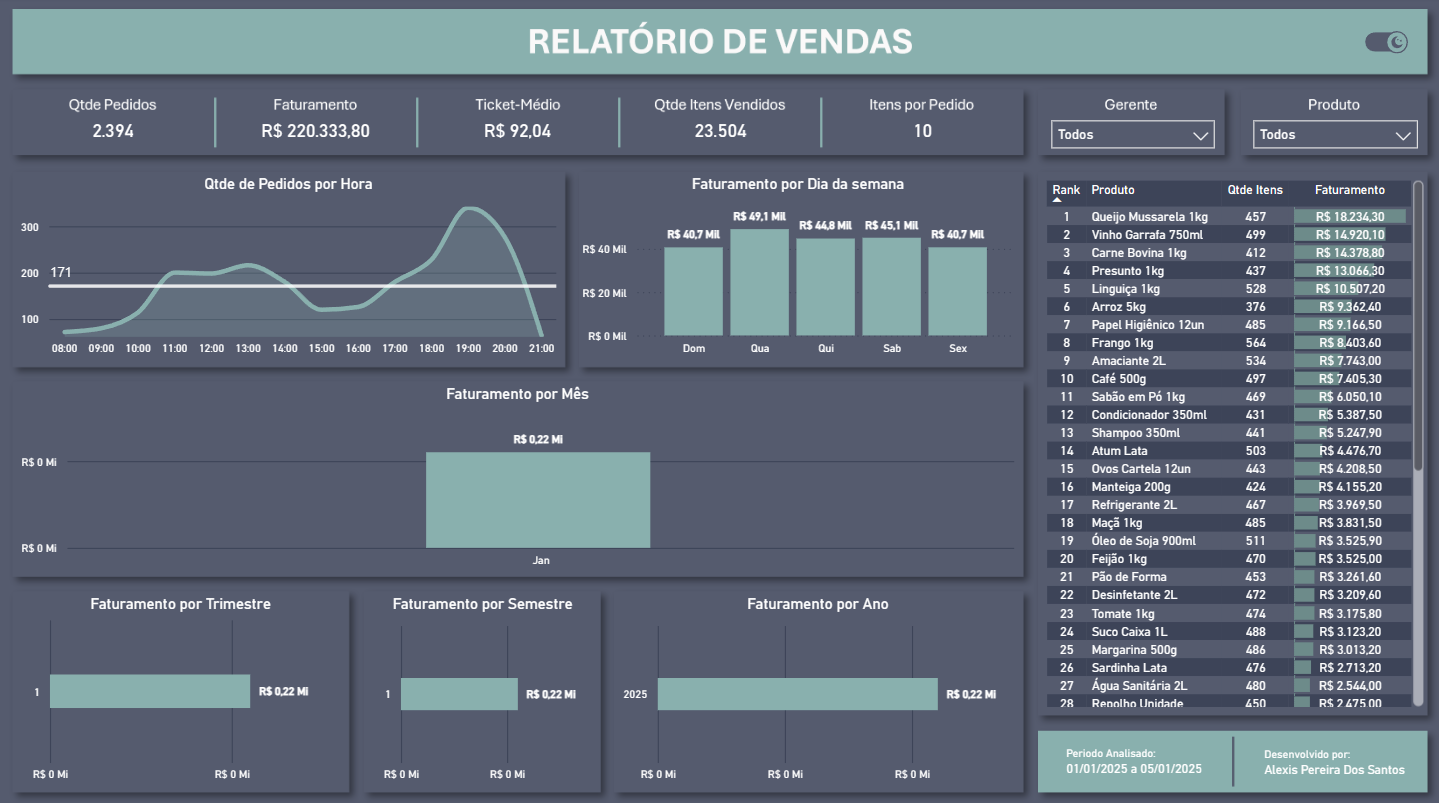

This screenshot's page, from the dashboard's own definition file:
{"tool":"powerbi","page":{"name":"RELATORIO_BI_Dark","canvas":[1280,720],"ordinal":1},"visuals":[{"type":"columnChart","title":"Faturamento por Dia da semana","fields":{"Category":["gold dim_calendario.dia_nome"],"Y":["gold fato_vendas.Faturamento"]},"box":[511.8,158.2,393.6,167.3],"z":0},{"type":"cardVisual","fields":{"Data":["gold fato_vendas.Faturamento"]},"box":[193.8,95,173,44],"z":1000},{"type":"cardVisual","fields":{"Data":["gold fato_vendas.QTD_PEDIDOS"]},"box":[14.7,95,172.7,44],"z":2000},{"type":"cardVisual","fields":{"Data":["gold fato_vendas.QTD_ITENS"]},"box":[553.2,95,173,44],"z":3000},{"type":"cardVisual","fields":{"Data":["gold fato_vendas.ITENS_P_PEDIDO"]},"box":[732.7,95,173.3,44],"z":4000},{"type":"cardVisual","fields":{"Data":["gold fato_vendas.TICKET_MÉDIO"]},"box":[373.3,95,173.3,44],"z":5000},{"type":"columnChart","title":"Faturamento por Mês","fields":{"Category":["gold dim_calendario.mes_abreviado"],"Y":["gold fato_vendas.Faturamento"]},"box":[14.4,343.8,891.2,169.4],"z":6000},{"type":"clusteredBarChart","title":"Faturamento por Ano","fields":{"Category":["gold dim_calendario.ano"],"Y":["gold fato_vendas.Faturamento"]},"box":[547.5,530.6,358.1,172.5],"z":7000},{"type":"clusteredBarChart","title":"Faturamento por Semestre","fields":{"Category":["gold dim_calendario.semestre"],"Y":["gold fato_vendas.Faturamento"]},"box":[325,530.6,206.9,172.5],"z":8000},{"type":"slicer","fields":{"Values":["gold dim_lojas.gerente"]},"box":[922.9,99.2,165.3,39.5],"z":9000},{"type":"slicer","fields":{"Values":["gold dim_produtos.produto"]},"box":[1101.8,99.2,165.8,39.5],"z":10000},{"type":"clusteredBarChart","title":"Faturamento por Trimestre","fields":{"Category":["gold dim_calendario.trimestre"],"Y":["gold fato_vendas.Faturamento"]},"box":[14.4,530.6,293.8,172.5],"z":11000},{"type":"image","box":[1210,30,40,20],"z":12000},{"type":"tableEx","fields":{"Values":["gold fato_vendas.RANK_PROD","gold dim_produtos.produto","gold fato_vendas.QTD_ITENS","gold fato_vendas.Faturamento"]},"box":[922.7,158.2,344.5,476.4],"z":13000},{"type":"cardVisual","fields":{"Data":["gold dim_calendario.data_inicio"]},"box":[928.7,657.2,156.7,41.4],"z":14000},{"type":"cardVisual","fields":{"Data":["gold dim_calendario.Desenvolvido"]},"box":[1105,658,161,41],"z":15000},{"type":"lineChart","title":"Qtde de Pedidos por Hora","fields":{"Category":["gold fato_vendas.inicio_hora"],"Y":["gold fato_vendas.QTD_PEDIDOS"]},"box":[14.4,158.1,485,167.5],"z":16000}]}

Visuals, with their boxes in screenshot pixels (x1, y1, x2, y2), scaled from the page's 1280x720 canvas onto the 1439x803 screenshot:
"Faturamento por Dia da semana" columnChart: {"left": 575, "top": 176, "right": 1018, "bottom": 363}
cardVisual - gold fato_vendas.Faturamento: {"left": 218, "top": 106, "right": 412, "bottom": 155}
cardVisual - gold fato_vendas.QTD_PEDIDOS: {"left": 17, "top": 106, "right": 211, "bottom": 155}
cardVisual - gold fato_vendas.QTD_ITENS: {"left": 622, "top": 106, "right": 816, "bottom": 155}
cardVisual - gold fato_vendas.ITENS_P_PEDIDO: {"left": 824, "top": 106, "right": 1019, "bottom": 155}
cardVisual - gold fato_vendas.TICKET_MÉDIO: {"left": 420, "top": 106, "right": 614, "bottom": 155}
"Faturamento por Mês" columnChart: {"left": 16, "top": 383, "right": 1018, "bottom": 572}
"Faturamento por Ano" clusteredBarChart: {"left": 616, "top": 592, "right": 1018, "bottom": 784}
"Faturamento por Semestre" clusteredBarChart: {"left": 365, "top": 592, "right": 598, "bottom": 784}
slicer - gold dim_lojas.gerente: {"left": 1038, "top": 111, "right": 1223, "bottom": 155}
slicer - gold dim_produtos.produto: {"left": 1239, "top": 111, "right": 1425, "bottom": 155}
"Faturamento por Trimestre" clusteredBarChart: {"left": 16, "top": 592, "right": 346, "bottom": 784}
image: {"left": 1360, "top": 33, "right": 1405, "bottom": 56}
tableEx - gold fato_vendas.RANK_PROD x gold dim_produtos.produto: {"left": 1037, "top": 176, "right": 1425, "bottom": 708}
cardVisual - gold dim_calendario.data_inicio: {"left": 1044, "top": 733, "right": 1220, "bottom": 779}
cardVisual - gold dim_calendario.Desenvolvido: {"left": 1242, "top": 734, "right": 1423, "bottom": 780}
"Qtde de Pedidos por Hora" lineChart: {"left": 16, "top": 176, "right": 561, "bottom": 363}
